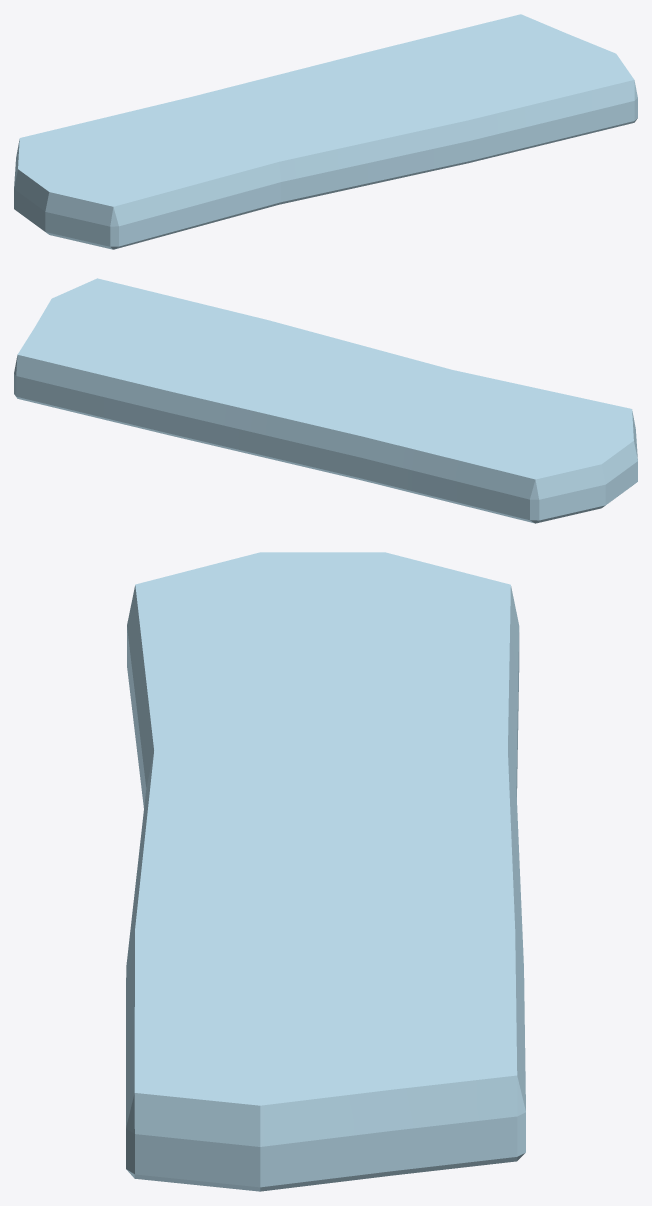
Rendered from Step1.fbx.
3 views of the same model, one above another, from view 1: azimuth 30°, elevation 25°; view 2: azimuth 150°, elevation 25°; view 3: azimuth 270°, elevation 25° (orthographic). The views are drawn at different scales.
Visible parts, largest first — view 1: Step1_LOD0; view 2: Step1_LOD0; view 3: Step1_LOD0.
Part boxes in pixels (x1,y1,x2,y2): Step1_LOD0: [14, 14, 637, 249]; Step1_LOD0: [14, 278, 637, 523]; Step1_LOD0: [126, 552, 525, 1191].
Size of what is drawn, in the model's own units: 762 by 54.44 by 230.
